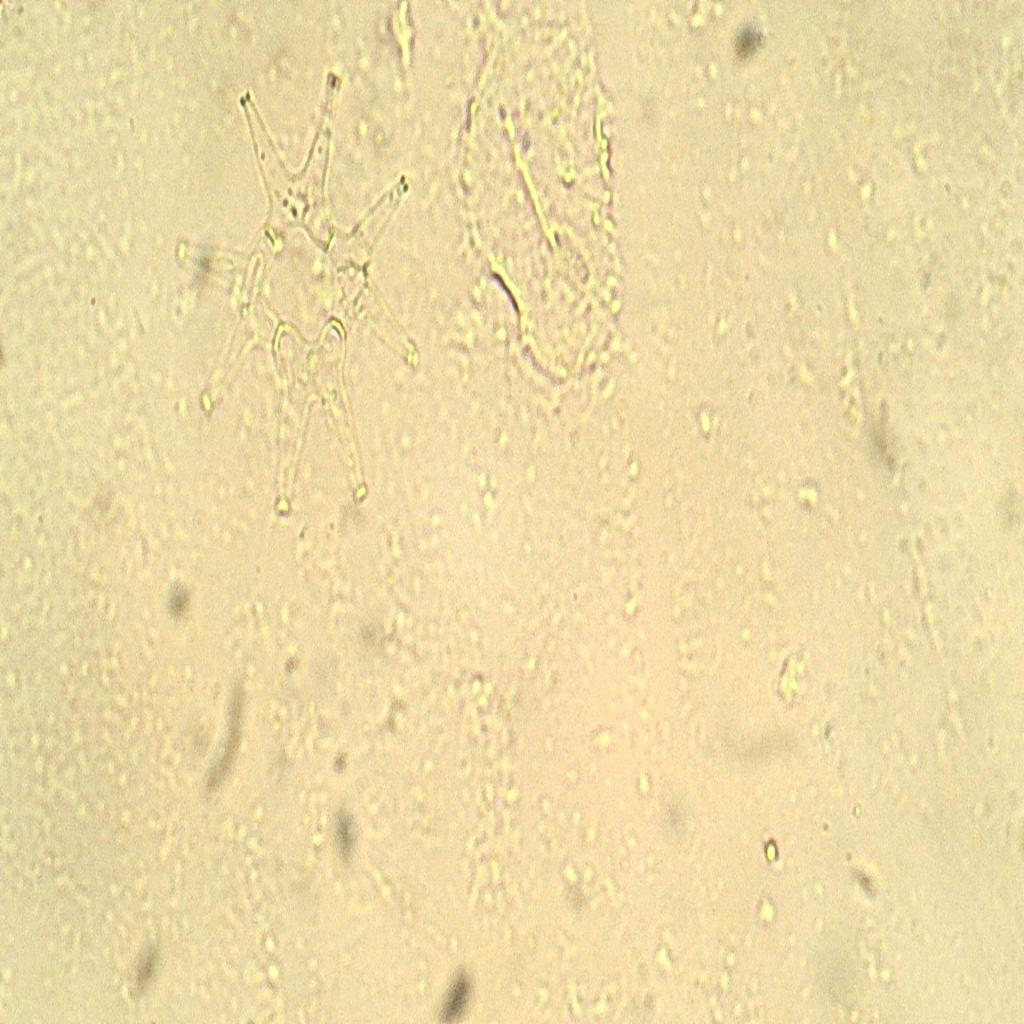Pediastrum_75TH: (172, 46, 430, 564)
